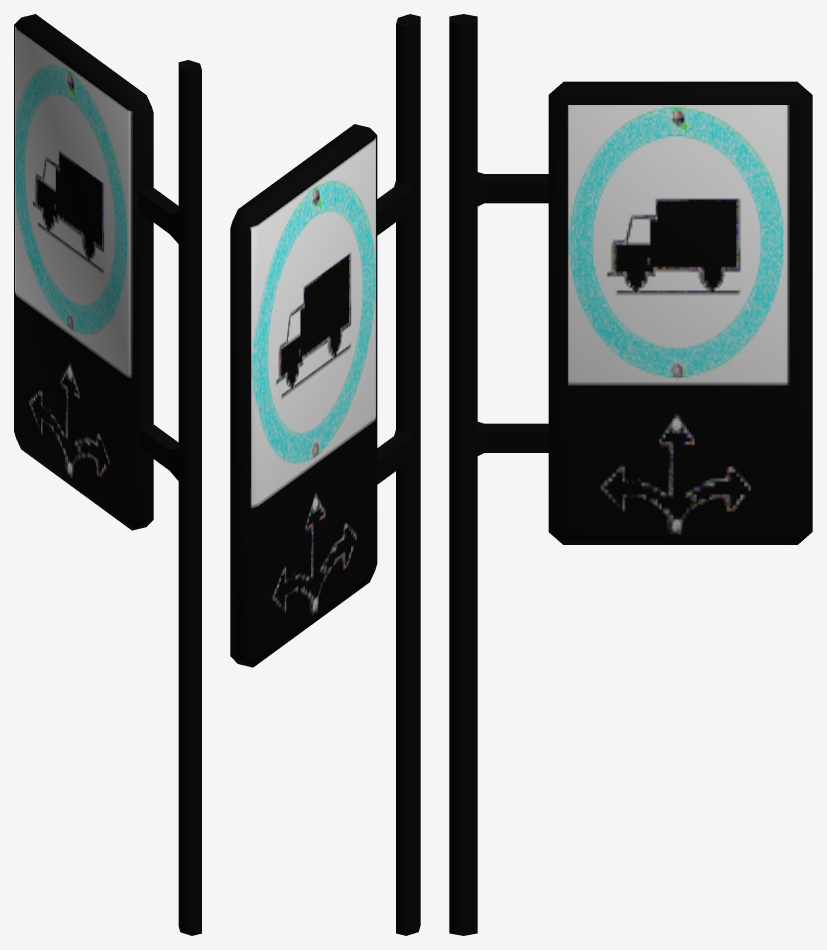
File: sign24.FBX
The picture shows the model from 3 angles, left to right: view 1: azimuth 30°, elevation 25°; view 2: azimuth 150°, elevation 25°; view 3: azimuth 270°, elevation 25°; orthographic projection. The views are drawn at different scales.
Parts seen in each view (by area): view 1: Cylinder001; view 2: Cylinder001; view 3: Cylinder001.
Boxes of the visible parts, bbox=[...] form: Cylinder001: bbox=[14, 14, 201, 935]; Cylinder001: bbox=[230, 14, 420, 935]; Cylinder001: bbox=[449, 14, 812, 935].
Bounding box in the file's own units: 1.57 × 50 × 18.04.
